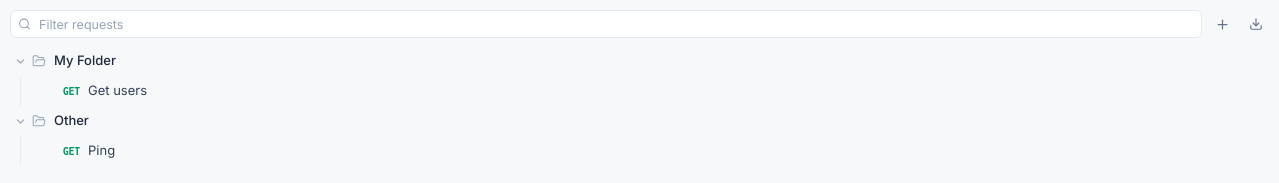
Test case: CollectionsPanel › filters the tree by request name or URL
Check: the text "Get users" is shown, box [88,81,147,101]
Type "health" into the field named "filter collections" at (606, 24), box [10,10,1202,38]
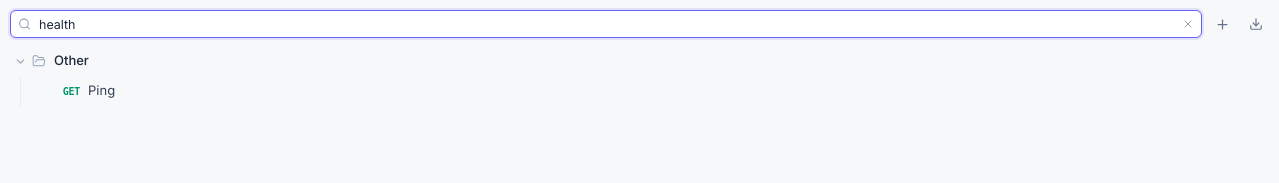
Check: the text "Ping" is shown, box [88,81,115,101]
Check: the button "Get users" is gone
Check: the button "My Folder" is gone
Type "zzz" into the field named "filter collections" at (606, 24), box [10,10,1202,38]
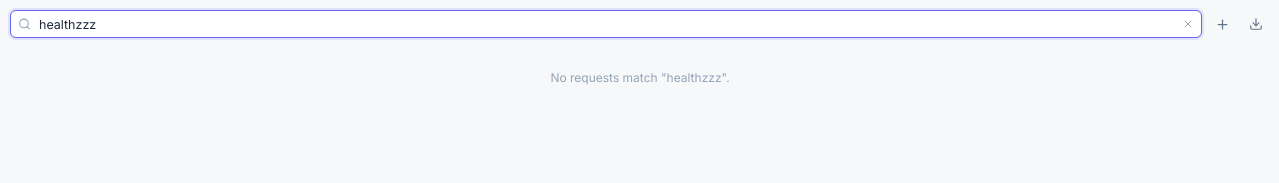
Check: the text "No requests match" is shown, box [550,70,667,85]
